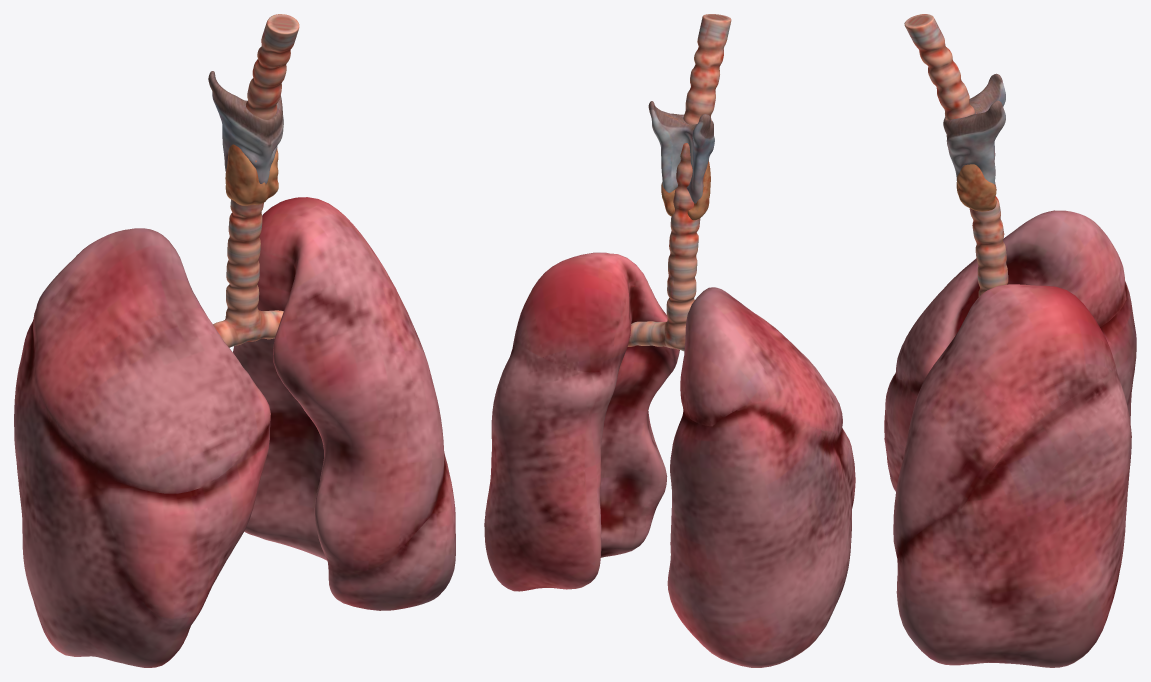
Rendered from healthy-lung.glb.
The picture shows the model from 3 angles, left to right: view 1: azimuth 30°, elevation 25°; view 2: azimuth 150°, elevation 25°; view 3: azimuth 270°, elevation 25°; orthographic projection. The views are drawn at different scales.
Visible parts, largest first — view 1: Lung_2, Lung_1; view 2: Lung_2, Lung_1; view 3: Lung_2, Lung_1.
Part boxes in pixels (left/top/right/bottom): Lung_2: left=14, top=197, right=455, bottom=667; Lung_1: left=208, top=14, right=299, bottom=347; Lung_2: left=484, top=252, right=855, bottom=667; Lung_1: left=627, top=14, right=731, bottom=351; Lung_2: left=884, top=210, right=1136, bottom=667; Lung_1: left=904, top=14, right=1008, bottom=296.
Size of the model in its own units: 2.63 by 4.34 by 1.67.
Materials: 2 (2 with a texture image).
